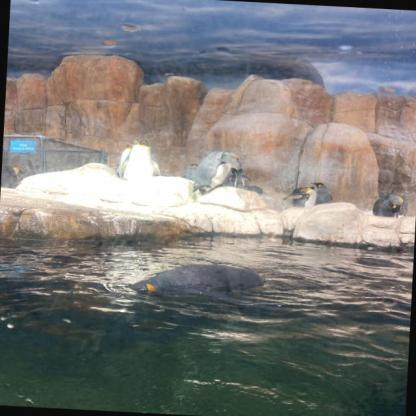penguin: (127, 259, 281, 310), (193, 150, 241, 197), (122, 138, 163, 183), (372, 192, 404, 218), (118, 141, 136, 179), (310, 181, 334, 206), (294, 185, 316, 208), (181, 163, 199, 180)
